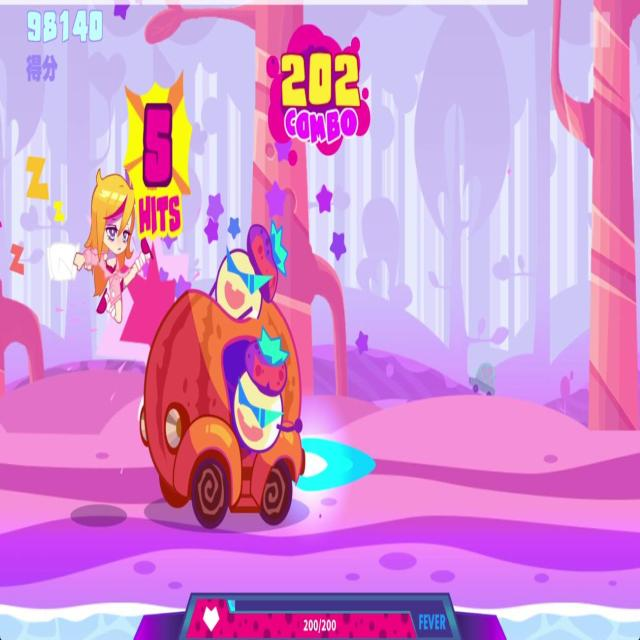cheboss: (138, 215, 309, 536)
